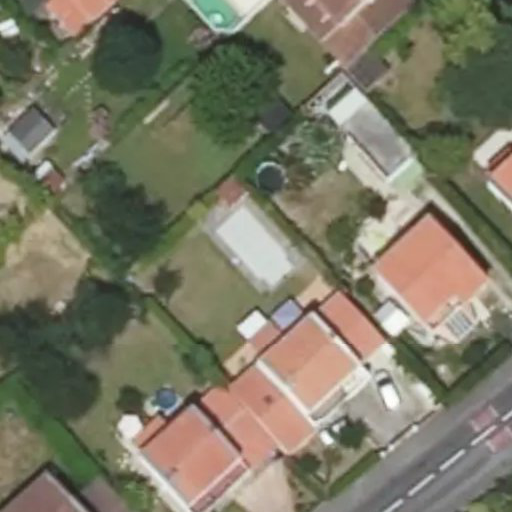pool: (224, 227, 287, 255)
